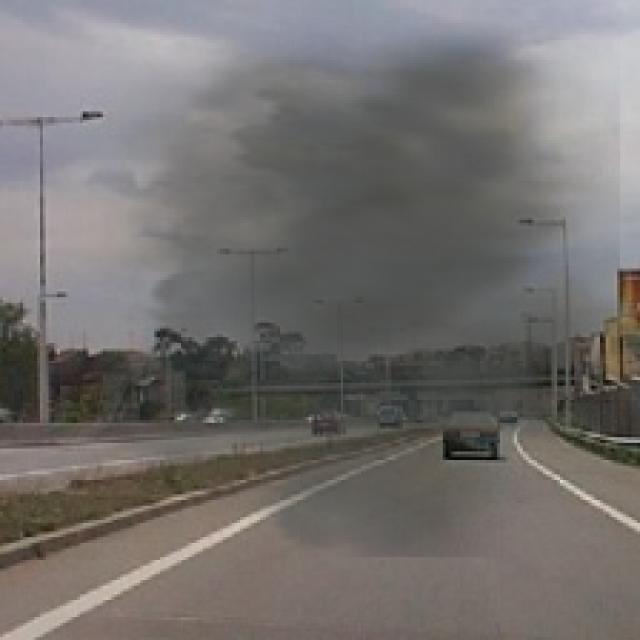smoke: (51, 9, 620, 557)
